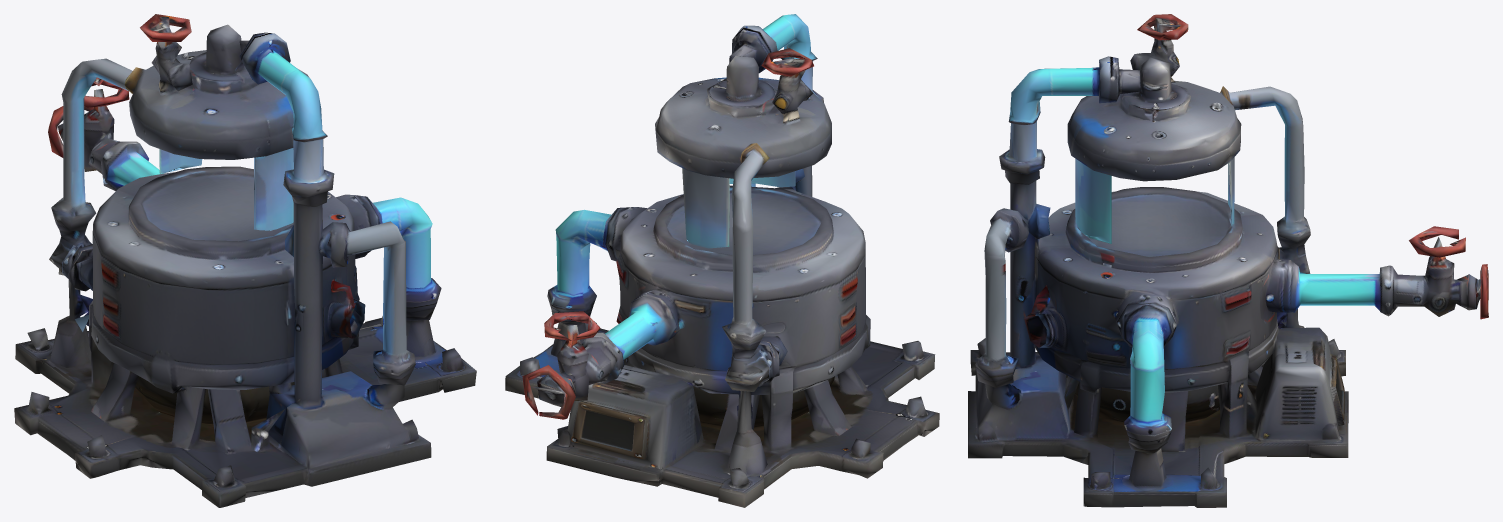
The model's file is reactor.obj.
3 renders of one model, left to right at view 1: azimuth 30°, elevation 25°; view 2: azimuth 150°, elevation 25°; view 3: azimuth 270°, elevation 25°, orthographic. The views are drawn at different scales.
Visible parts, largest first — view 1: tripo_node_f5729f5e-642a-490d-a81e-5d69ce4ff2c3; view 2: tripo_node_f5729f5e-642a-490d-a81e-5d69ce4ff2c3; view 3: tripo_node_f5729f5e-642a-490d-a81e-5d69ce4ff2c3.
Part boxes in pixels (bbox=[...]): tripo_node_f5729f5e-642a-490d-a81e-5d69ce4ff2c3: bbox=[14, 14, 476, 507]; tripo_node_f5729f5e-642a-490d-a81e-5d69ce4ff2c3: bbox=[505, 14, 939, 507]; tripo_node_f5729f5e-642a-490d-a81e-5d69ce4ff2c3: bbox=[968, 14, 1488, 507].
Bounding box in the file's own units: 0.7913 × 0.8495 × 1.
1 material, 1 textured.
